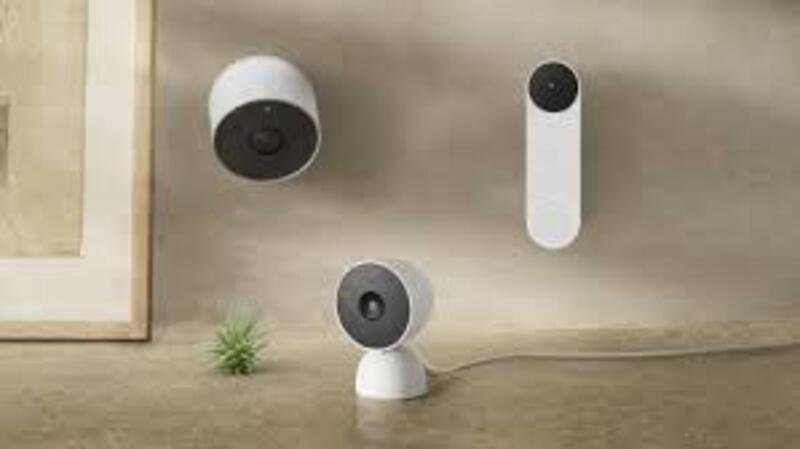doorbell: (518, 53, 588, 250)
nest: (205, 56, 325, 186), (329, 254, 442, 361)
